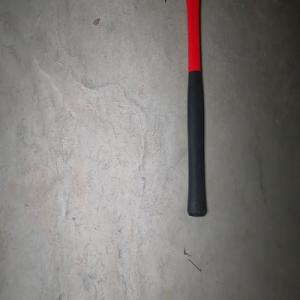Hammer: (164, 0, 222, 217)
